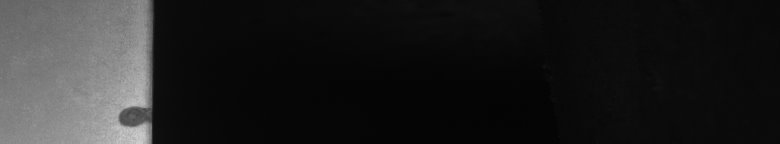hb: (112, 99, 140, 136)
